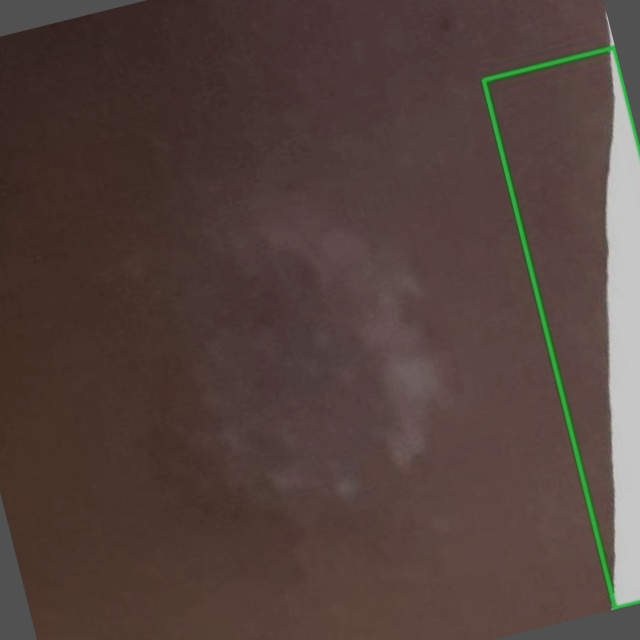Contact Dermatitis: (482, 46, 639, 609)
